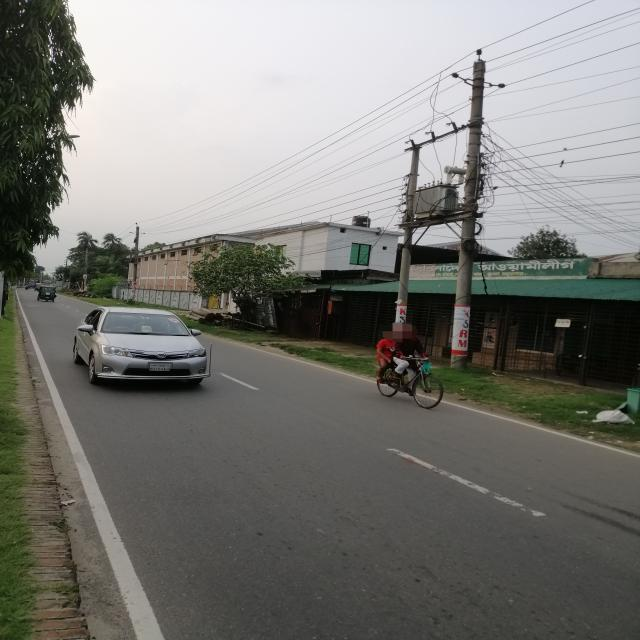Bicycle: (372, 354, 450, 415)
Car: (70, 303, 216, 390)
